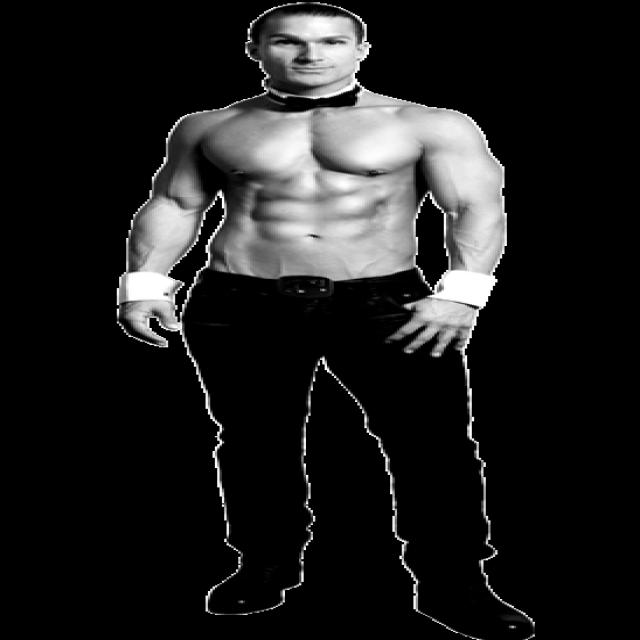mobile_phonerotation: (115, 1, 538, 638)
